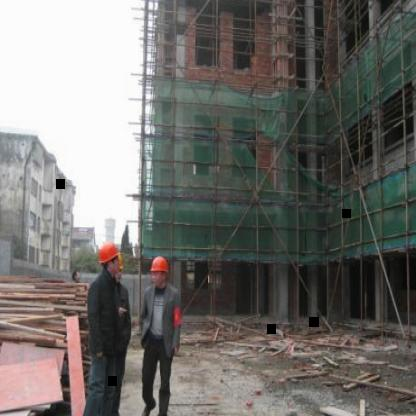helmet: (93, 242, 122, 264), (147, 254, 171, 279)
